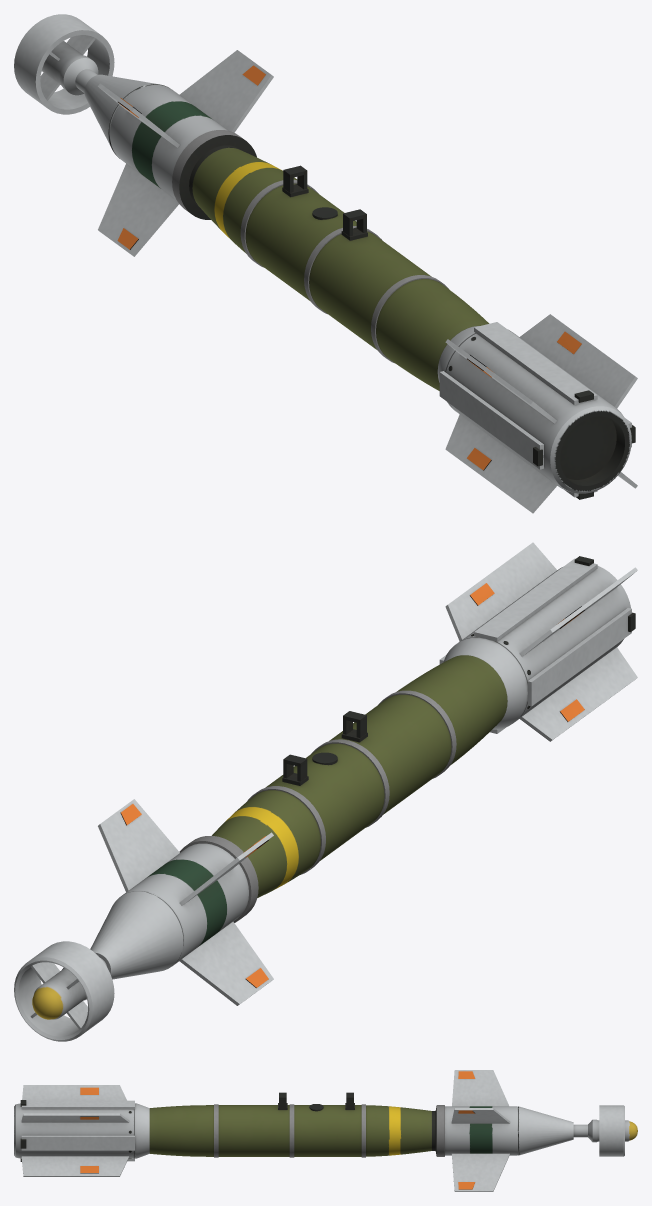
Rendered from gbu12.glb.
3 views of the same model, one above another, from view 1: azimuth 30°, elevation 25°; view 2: azimuth 150°, elevation 25°; view 3: azimuth 270°, elevation 25° (orthographic). The views are drawn at different scales.
Visible parts, largest first — view 1: G12_tail, G12_body, G12_ccg, G12_canards, G12_ring, G12_lugs, G12_head; view 2: G12_body, G12_tail, G12_ccg, G12_canards, G12_ring, G12_lugs, G12_head; view 3: G12_body, G12_tail, G12_ccg, G12_canards, G12_ring, G12_lugs, G12_head.
Boxes of the visible parts, box(x1,y1,x2,y2) form: G12_tail: box(437, 314, 637, 513); G12_body: box(192, 147, 489, 390); G12_ccg: box(84, 74, 256, 219); G12_canards: box(98, 50, 273, 256); G12_ring: box(14, 14, 114, 114); G12_lugs: box(240, 165, 449, 363); G12_head: box(41, 41, 98, 95); G12_body: box(212, 655, 507, 897); G12_tail: box(439, 542, 637, 741); G12_ccg: box(90, 835, 258, 979); G12_canards: box(98, 799, 273, 1005); G12_ring: box(14, 941, 114, 1041); G12_lugs: box(247, 690, 456, 874); G12_head: box(32, 958, 106, 1019); G12_body: box(149, 1105, 431, 1156); G12_tail: box(14, 1085, 149, 1176); G12_ccg: box(432, 1105, 573, 1156); G12_canards: box(451, 1070, 509, 1191); G12_ring: box(599, 1105, 624, 1156); G12_lugs: box(214, 1092, 365, 1157); G12_head: box(573, 1119, 637, 1142).
Bounding box in the file's own units: 0.4907 × 0.4907 × 3.3.
Materials: 1 (1 with a texture image).
